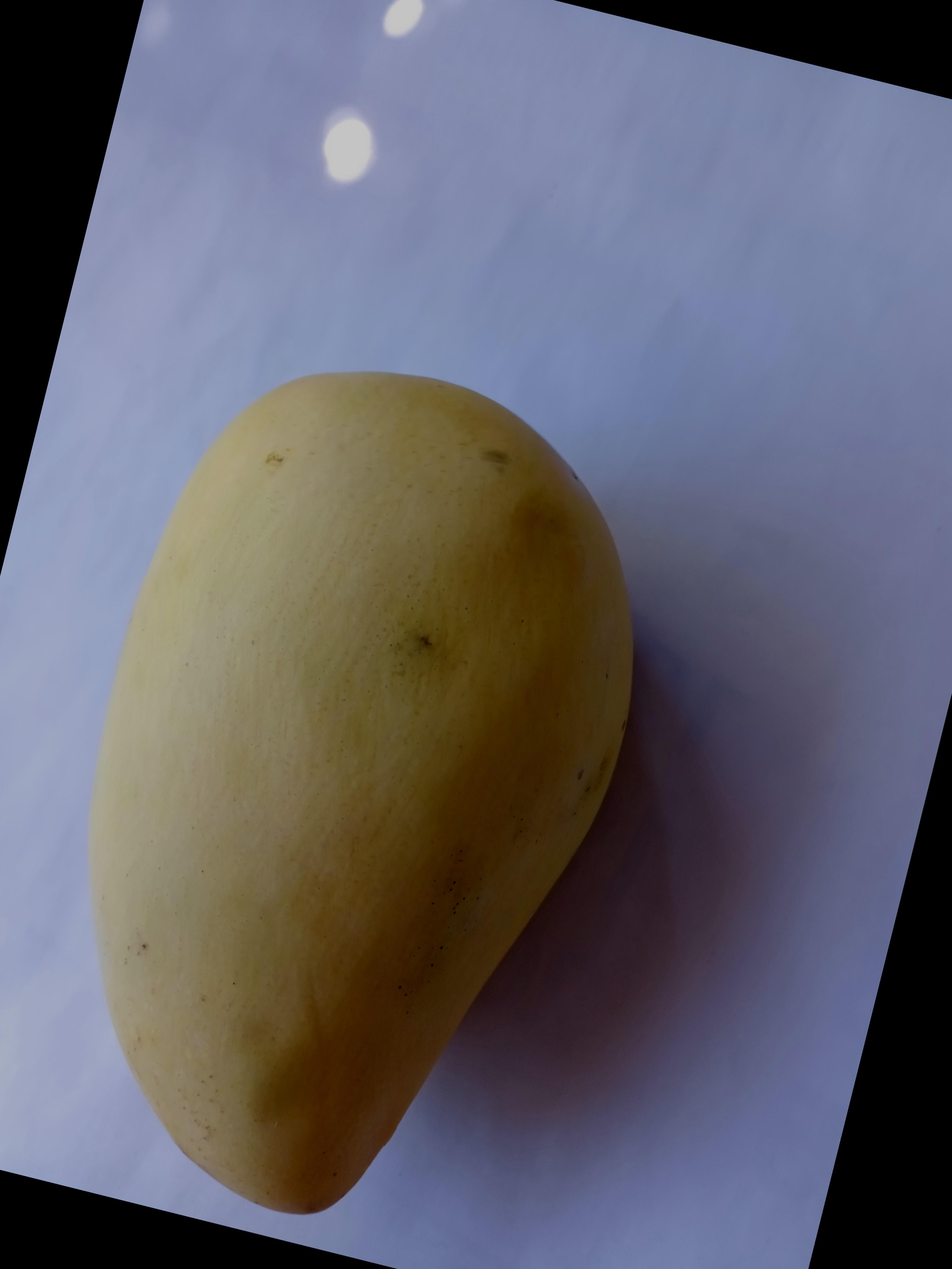Mango Ripe: (169, 164, 951, 1180)
